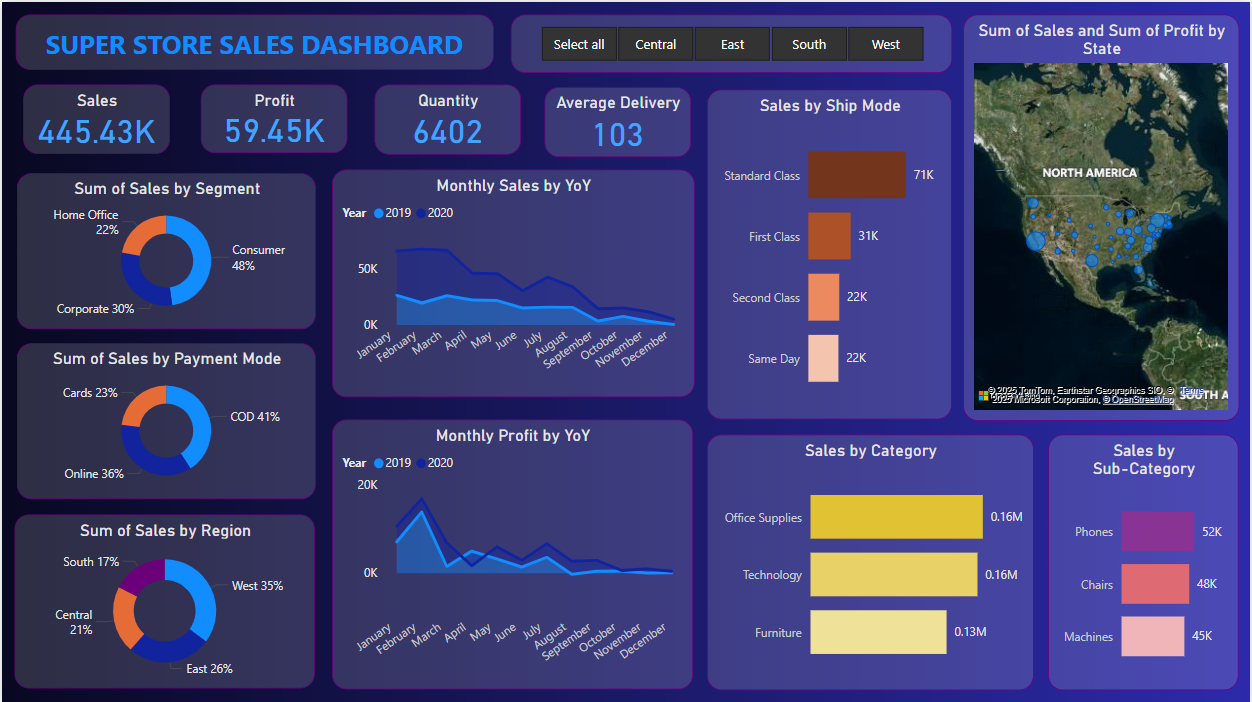

Layout of this report page (visuals, bound fields, positions):
{"tool":"powerbi","page":{"name":"Super Store Sales Dashboard","canvas":[1280,720],"ordinal":0},"visuals":[{"type":"clusteredBarChart","title":" Sales by Category","fields":{"Category":["SuperStore_Sales_Dataset (1).Category"],"Y":["Sum(SuperStore_Sales_Dataset (1).Sales)"]},"box":[723.2,443.2,334.8,262.1],"z":0},{"type":"clusteredBarChart","title":" Sales by Ship Mode","fields":{"Category":["SuperStore_Sales_Dataset (1).Ship Mode"],"Y":["Sum(SuperStore_Sales_Dataset (1).Sales)"]},"box":[722.9,90,251.4,338.6],"z":1000},{"type":"clusteredBarChart","title":" Sales by Sub-Category","fields":{"Category":["SuperStore_Sales_Dataset (1).Sub-Category"],"Y":["Sum(SuperStore_Sales_Dataset (1).Sales)"]},"box":[1073.1,443.2,194.9,262.1],"z":2000},{"type":"stackedAreaChart","title":"Monthly Sales by YoY","fields":{"Y":["Sum(SuperStore_Sales_Dataset (1).Sales)"],"Category":["SuperStore_Sales_Dataset (1).Order Date.Variation.Date Hierarchy.Month"],"Series":["SuperStore_Sales_Dataset (1).Order Date.Variation.Date Hierarchy.Year"]},"box":[338.3,171.7,371.7,233.3],"z":3000},{"type":"stackedAreaChart","title":"Monthly Profit by YoY","fields":{"Category":["SuperStore_Sales_Dataset (1).Order Date.Variation.Date Hierarchy.Month"],"Series":["SuperStore_Sales_Dataset (1).Order Date.Variation.Date Hierarchy.Year"],"Y":["Sum(SuperStore_Sales_Dataset (1).Profit)"]},"box":[338.3,428.3,370,276.7],"z":4000},{"type":"map","fields":{"Category":["SuperStore_Sales_Dataset (1).State"],"Size":["Sum(SuperStore_Sales_Dataset (1).Sales)"]},"box":[985.7,12.9,282.9,417.1],"z":5000},{"type":"donutChart","fields":{"Category":["SuperStore_Sales_Dataset (1).Segment"],"Y":["Sum(SuperStore_Sales_Dataset (1).Sales)"]},"box":[15,175,306.7,160],"z":6000},{"type":"donutChart","fields":{"Category":["SuperStore_Sales_Dataset (1).Payment Mode"],"Y":["Sum(SuperStore_Sales_Dataset (1).Sales)"]},"box":[15,350,306.7,160],"z":7000},{"type":"slicer","fields":{"Values":["SuperStore_Sales_Dataset (1).Region"]},"box":[521.4,12.9,452.9,60],"z":8000},{"type":"textbox","box":[14.3,12.9,490,57.1],"z":9000},{"type":"card","title":"Sales","fields":{"Values":["Sum(SuperStore_Sales_Dataset (1).Sales)"]},"box":[21.4,84.3,150,71.4],"z":9001},{"type":"card","title":"Profit","fields":{"Values":["Sum(SuperStore_Sales_Dataset (1).Profit)"]},"box":[203.3,85,150,70],"z":9002},{"type":"card","title":"Quantity","fields":{"Values":["Sum(SuperStore_Sales_Dataset (1).Quantity)"]},"box":[381.7,85,150,71.7],"z":9003},{"type":"card","title":"Average Delivery","fields":{"Values":["Avg(SuperStore_Sales_Dataset (1).AvgDelivery)"]},"box":[556.7,86.7,150,71.7],"z":9005},{"type":"donutChart","fields":{"Y":["Sum(SuperStore_Sales_Dataset (1).Sales)"],"Category":["SuperStore_Sales_Dataset (1).Region"]},"box":[13.3,525,308.3,178.3],"z":9006}]}

Visuals, with their boxes in screenshot pixels (x1, y1, x2, y2), scaled from the page's 1280x720 canvas onto the 1252x702 screenshot:
" Sales by Category" clusteredBarChart: pyautogui.locateOnScreen(707, 432, 1035, 688)
" Sales by Ship Mode" clusteredBarChart: pyautogui.locateOnScreen(707, 88, 953, 418)
" Sales by Sub-Category" clusteredBarChart: pyautogui.locateOnScreen(1050, 432, 1240, 688)
"Monthly Sales by YoY" stackedAreaChart: pyautogui.locateOnScreen(331, 167, 694, 395)
"Monthly Profit by YoY" stackedAreaChart: pyautogui.locateOnScreen(331, 418, 693, 687)
map - SuperStore_Sales_Dataset (1).State x Sum(SuperStore_Sales_Dataset (1).Sales): pyautogui.locateOnScreen(964, 13, 1241, 419)
donutChart - SuperStore_Sales_Dataset (1).Segment x Sum(SuperStore_Sales_Dataset (1).Sales): pyautogui.locateOnScreen(15, 171, 315, 327)
donutChart - SuperStore_Sales_Dataset (1).Payment Mode x Sum(SuperStore_Sales_Dataset (1).Sales): pyautogui.locateOnScreen(15, 341, 315, 497)
slicer - SuperStore_Sales_Dataset (1).Region: pyautogui.locateOnScreen(510, 13, 953, 71)
textbox: pyautogui.locateOnScreen(14, 13, 493, 68)
"Sales" card: pyautogui.locateOnScreen(21, 82, 168, 152)
"Profit" card: pyautogui.locateOnScreen(199, 83, 346, 151)
"Quantity" card: pyautogui.locateOnScreen(373, 83, 520, 153)
"Average Delivery" card: pyautogui.locateOnScreen(545, 85, 691, 154)
donutChart - Sum(SuperStore_Sales_Dataset (1).Sales) x SuperStore_Sales_Dataset (1).Region: pyautogui.locateOnScreen(13, 512, 315, 686)
